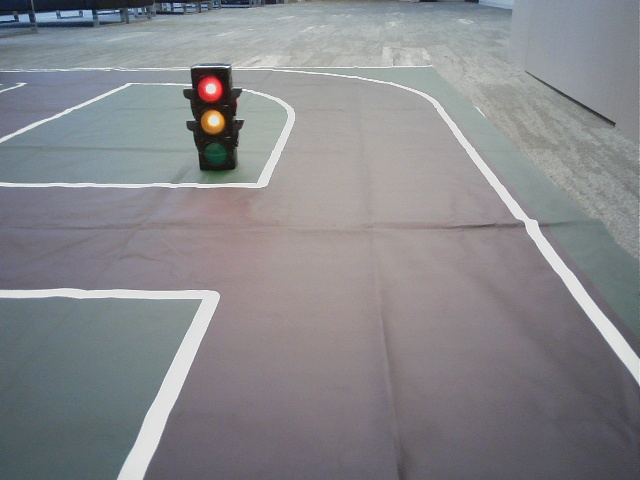red: (192, 67, 235, 169)
